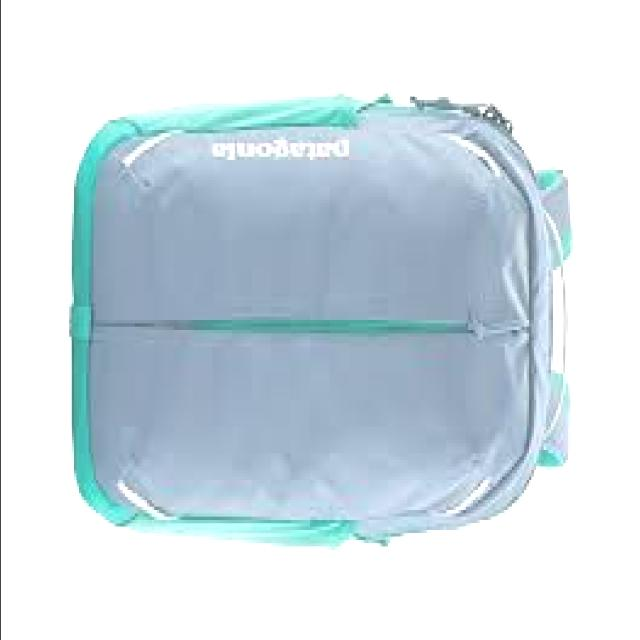backpack: (72, 91, 576, 551)
